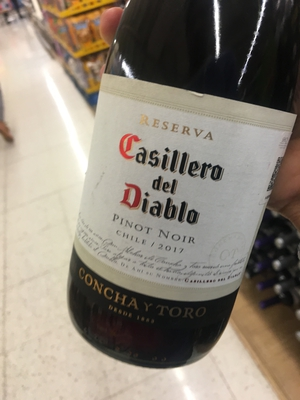casillero del diablo pinot noir: (67, 6, 286, 364)
